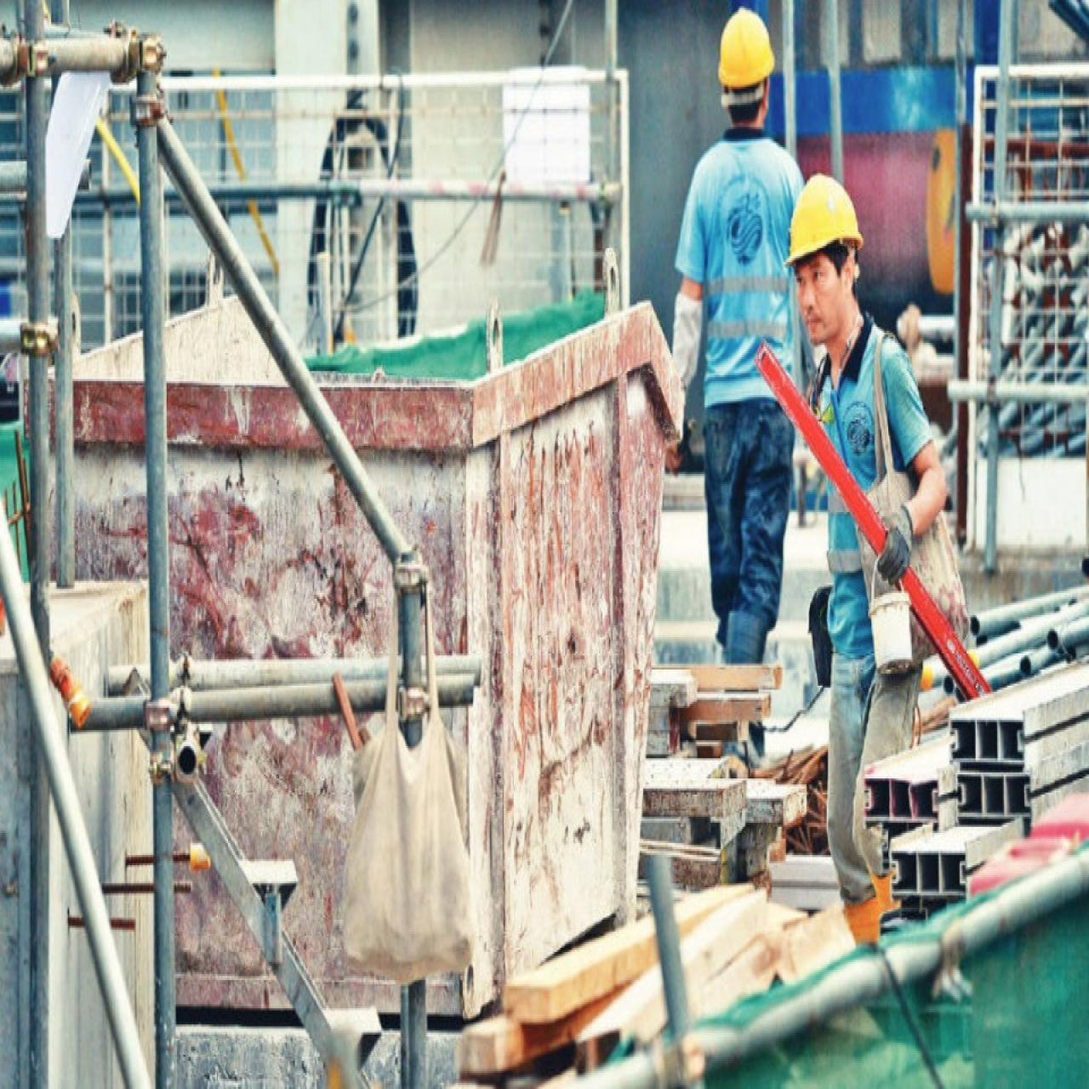NO_Safety_Vest: (805, 347, 935, 683), (687, 137, 808, 416)
Person: (768, 166, 955, 945), (661, 0, 862, 675)
